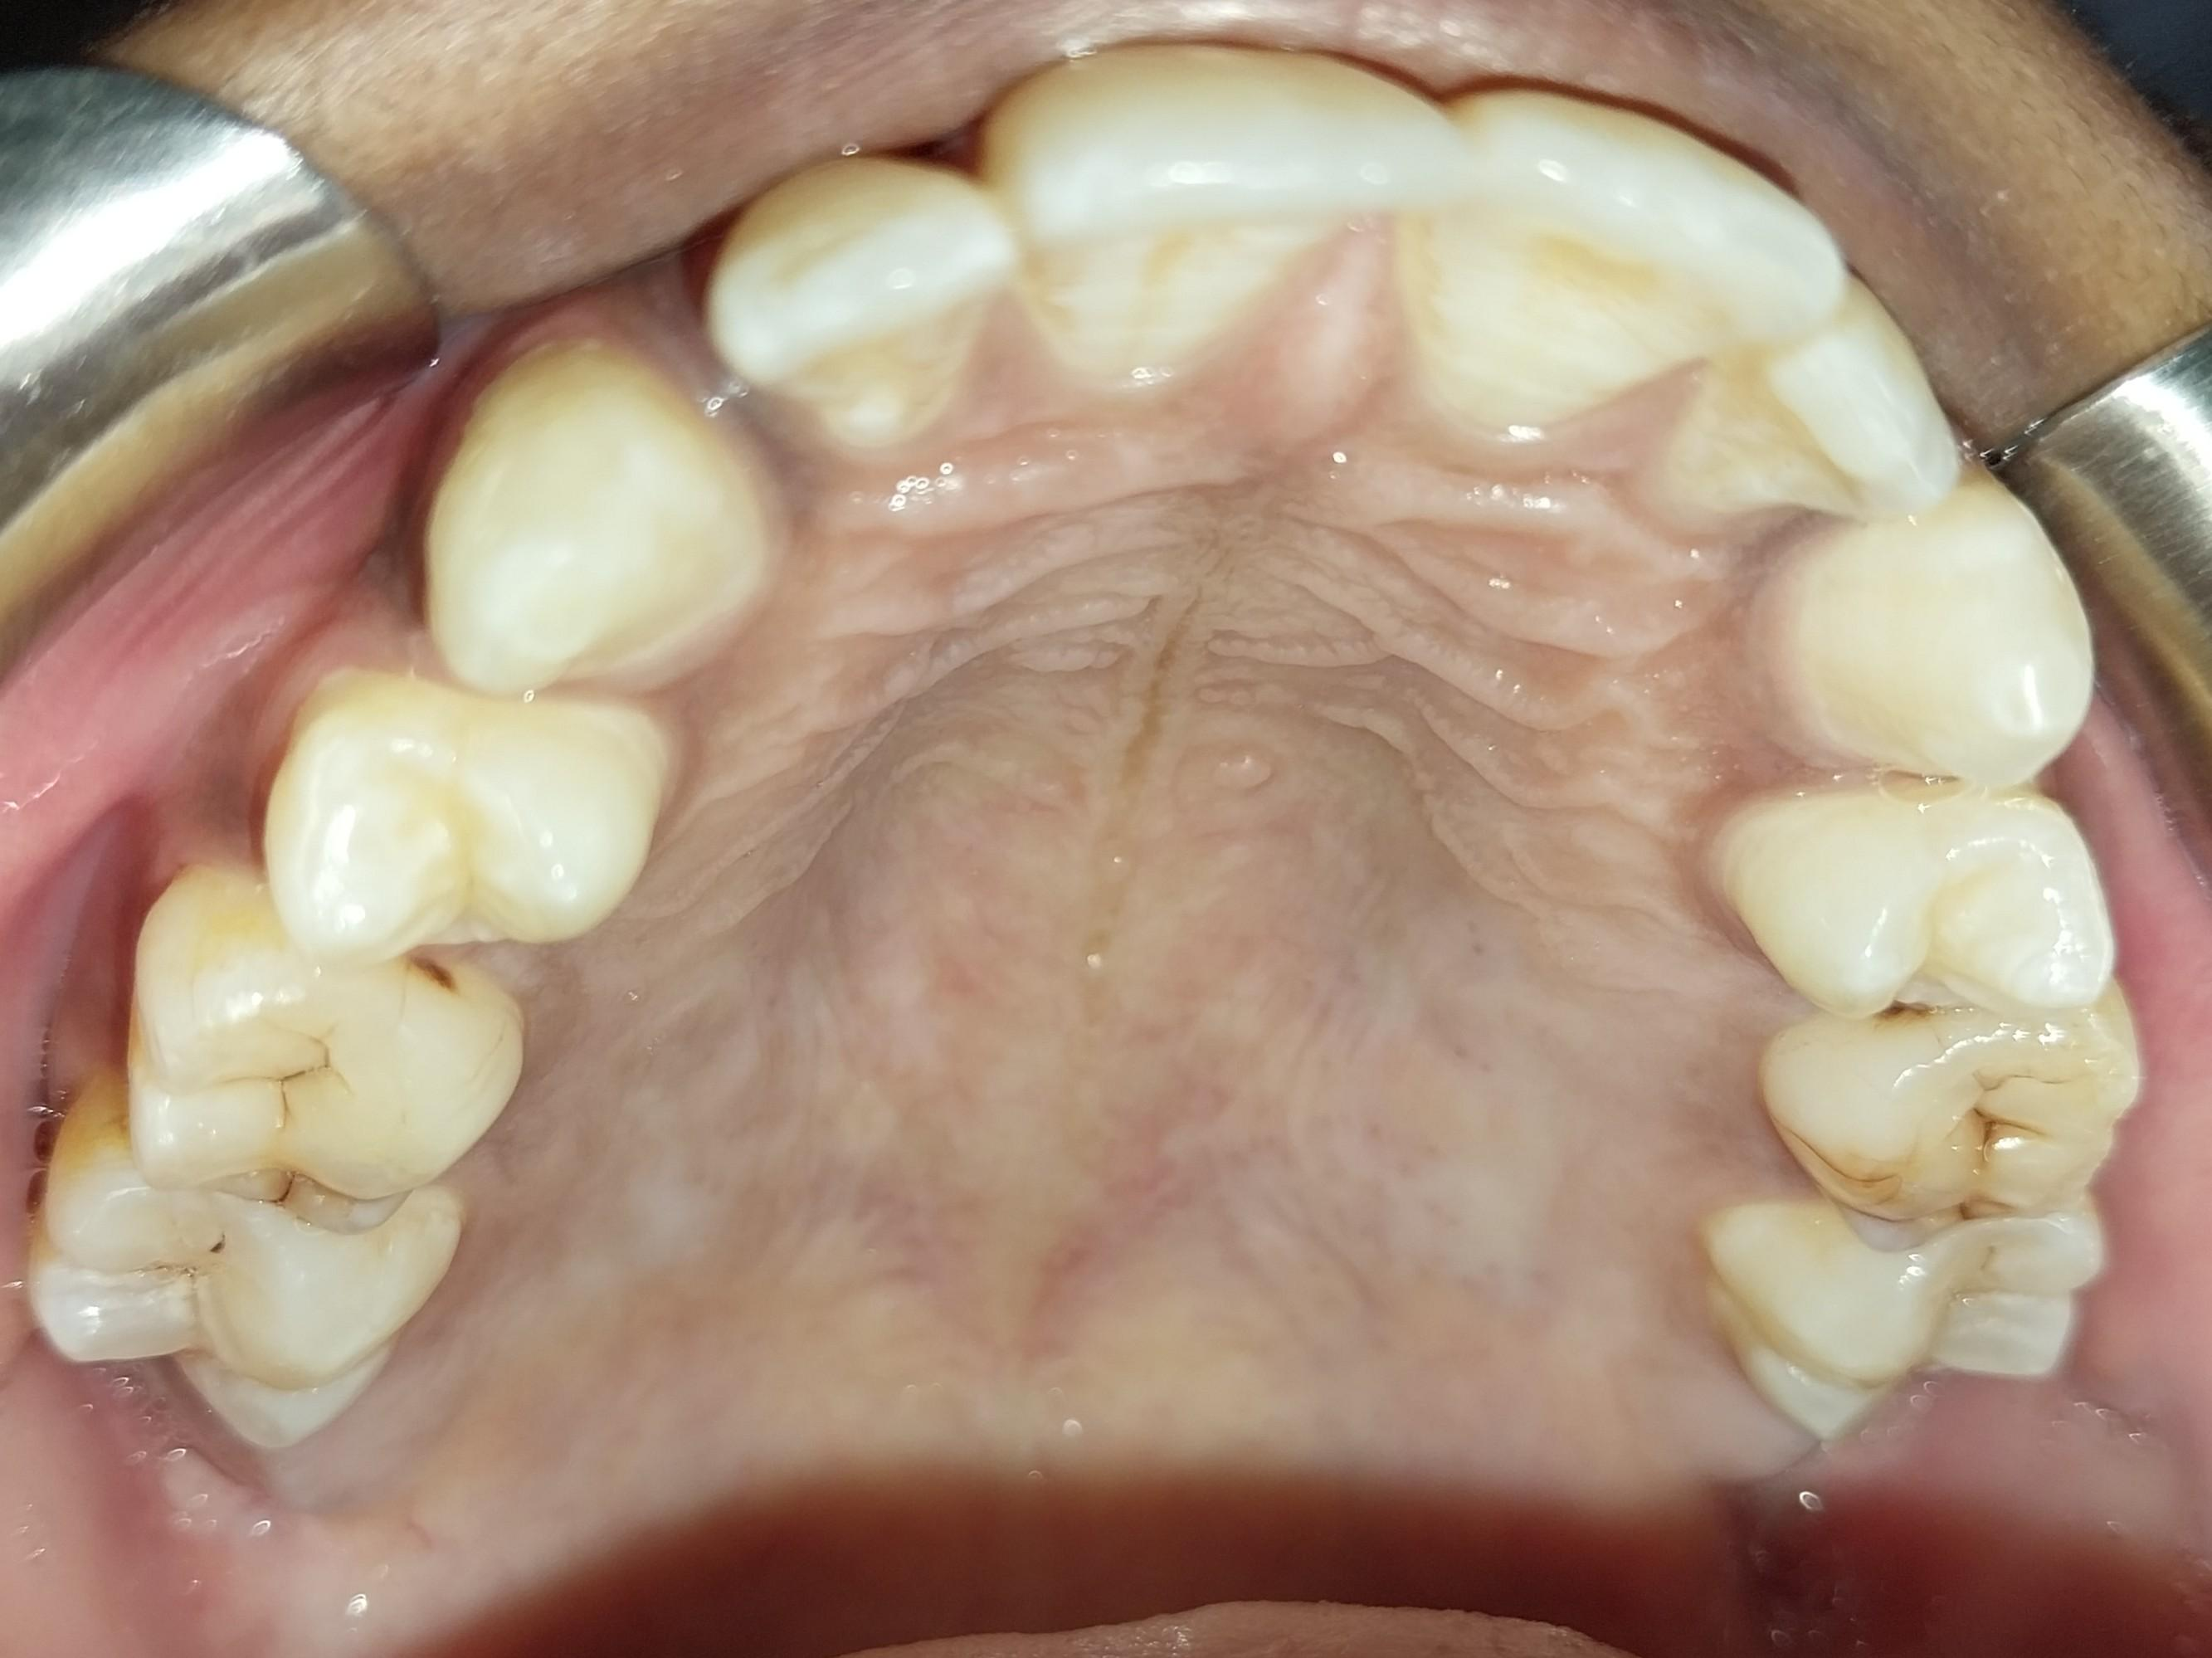d: (131, 885, 530, 1238), (1766, 987, 2139, 1247)
